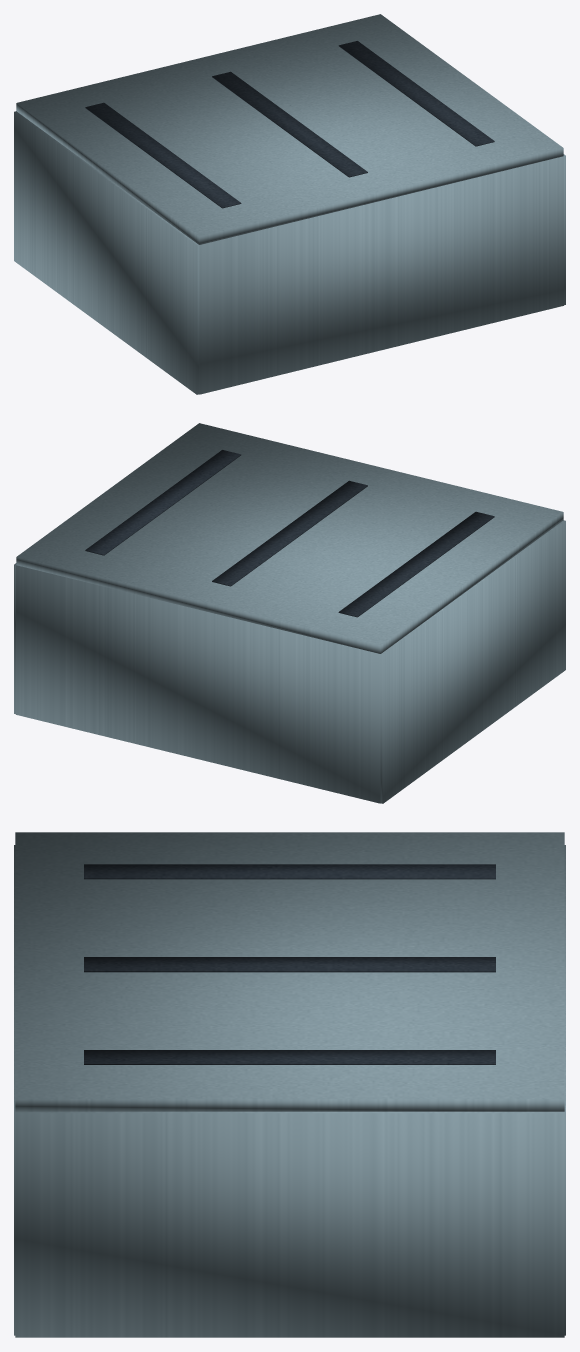
3 renders of one model, top to bottom at view 1: azimuth 30°, elevation 25°; view 2: azimuth 150°, elevation 25°; view 3: azimuth 270°, elevation 25°, orthographic. The views are drawn at different scales.
Visible parts, largest first — view 1: 186_L115_SH1_Shield_Titanium, 186_L115_SH1_Shield_Black; view 2: 186_L115_SH1_Shield_Titanium, 186_L115_SH1_Shield_Black; view 3: 186_L115_SH1_Shield_Titanium, 186_L115_SH1_Shield_Black.
Boxes of the visible parts, <box> form: 186_L115_SH1_Shield_Titanium: <box>14,14,565,394</box>; 186_L115_SH1_Shield_Black: <box>85,41,494,208</box>; 186_L115_SH1_Shield_Titanium: <box>14,423,565,803</box>; 186_L115_SH1_Shield_Black: <box>85,450,494,617</box>; 186_L115_SH1_Shield_Titanium: <box>14,832,565,1337</box>; 186_L115_SH1_Shield_Black: <box>84,864,495,1064</box>.
Bounding box in the file's own units: 0.0233 × 0.00958 × 0.0201.
2 materials, 2 textured.
